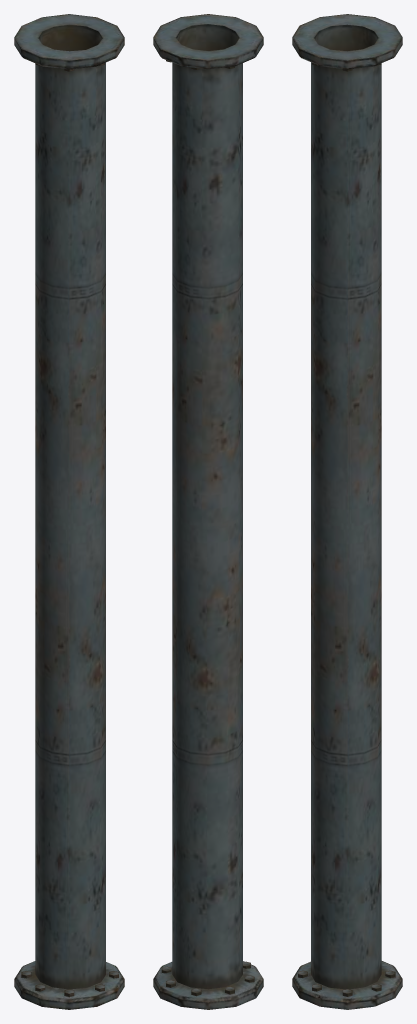
Rendered from pipe_straight.glb.
3 views of the same model, side by side, from view 1: azimuth 90°, elevation 25°; view 2: azimuth 210°, elevation 25°; view 3: azimuth 270°, elevation 25° (orthographic).
Parts seen in each view (by area): view 1: pipe_straight; view 2: pipe_straight; view 3: pipe_straight.
Boxes of the visible parts, bbox=[...] form: pipe_straight: bbox=[14, 14, 124, 1009]; pipe_straight: bbox=[153, 14, 263, 1009]; pipe_straight: bbox=[292, 14, 402, 1009].
Bounding box in the file's own units: 0.2071 × 1.95 × 0.2063.
1 material, 1 textured.
